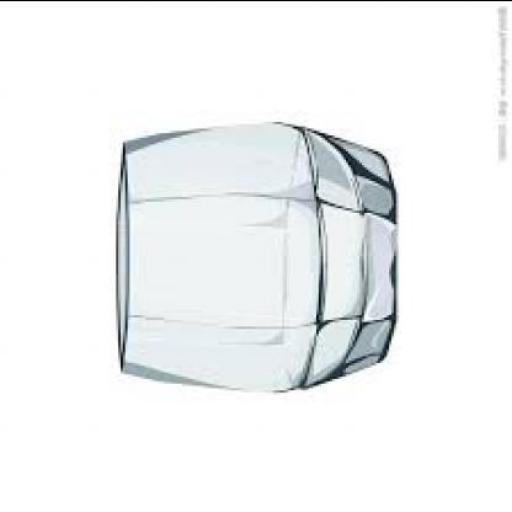glass: (116, 118, 394, 389)
